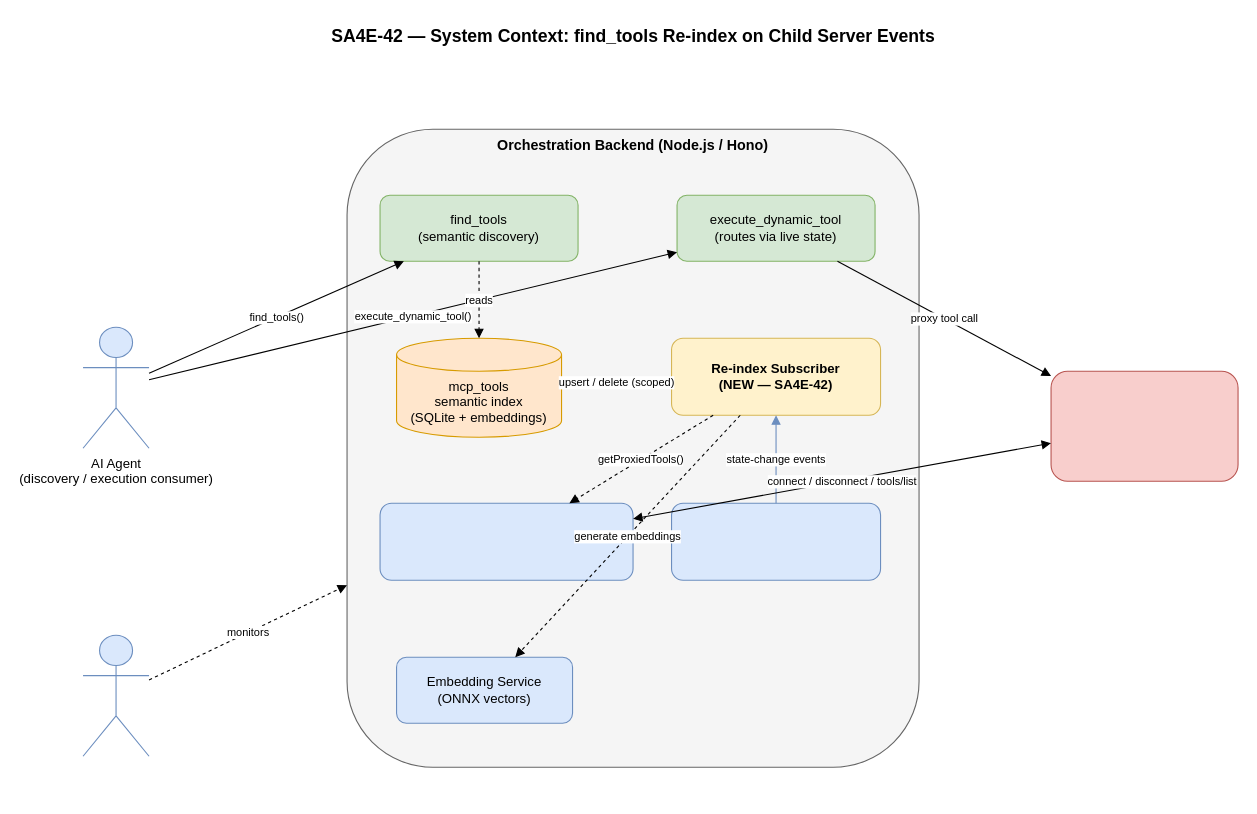
This 1257x814 diagram has some shape labels left out. Each missing label, with the centre of its shape:
Child MCP Servers (e.g., atlassian) configured in orchestration.json: the point at 1144,425
Connection State Tracker (SA4E-37) emits state-change events: the point at 775,541
McpClientManager onServerStateChange() / getProxiedTools(): the point at 506,541
Platform Operator (monitors status / logs): the point at 115,695
